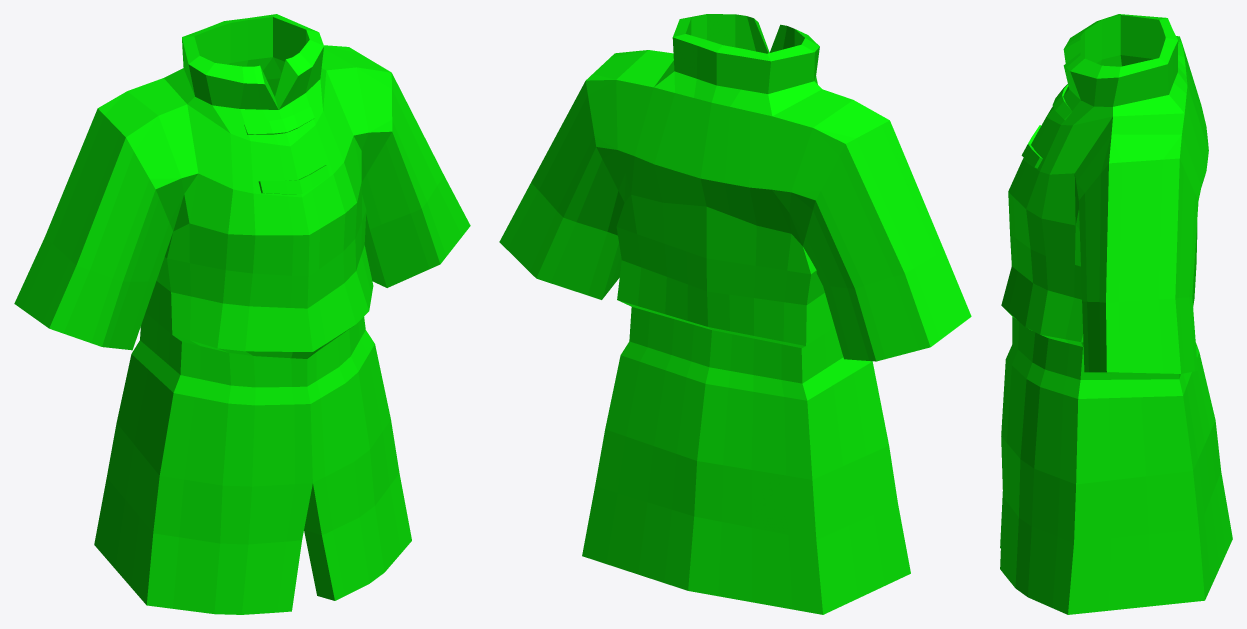
File: SM_Armor_Gambeson_A_Hanging_Fantasy.fbx
3 views of the same model, side by side, from view 1: azimuth 30°, elevation 25°; view 2: azimuth 150°, elevation 25°; view 3: azimuth 270°, elevation 25° (orthographic). The views are drawn at different scales.
Visible parts, largest first — view 1: armor-gambeson-a-hanging-fantasy; view 2: armor-gambeson-a-hanging-fantasy; view 3: armor-gambeson-a-hanging-fantasy.
Part boxes in pixels (<box>): armor-gambeson-a-hanging-fantasy: <box>14,14,470,614</box>; armor-gambeson-a-hanging-fantasy: <box>499,14,971,614</box>; armor-gambeson-a-hanging-fantasy: <box>1000,14,1232,614</box>.
Bounding box in the file's own units: 0.6891 × 0.8192 × 0.3306.
